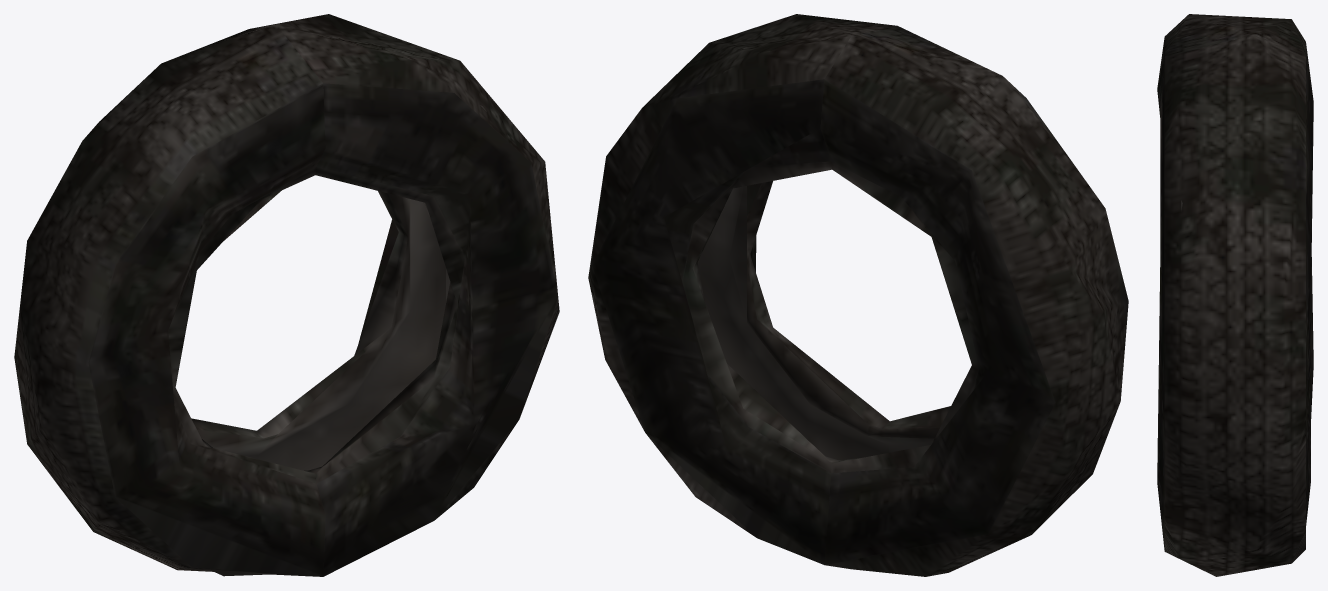
The model's file is tyre.glb.
3 renders of one model, left to right at view 1: azimuth 30°, elevation 25°; view 2: azimuth 150°, elevation 25°; view 3: azimuth 270°, elevation 25°, orthographic. The views are drawn at different scales.
Visible parts, largest first — view 1: old_tyre; view 2: old_tyre; view 3: old_tyre.
Part boxes in pixels (<box>): old_tyre: <box>14,14,559,576</box>; old_tyre: <box>588,14,1128,576</box>; old_tyre: <box>1157,14,1313,576</box>.
Bounding box in the file's own units: 0.5873 × 0.6 × 0.165.
1 material, 1 textured.
